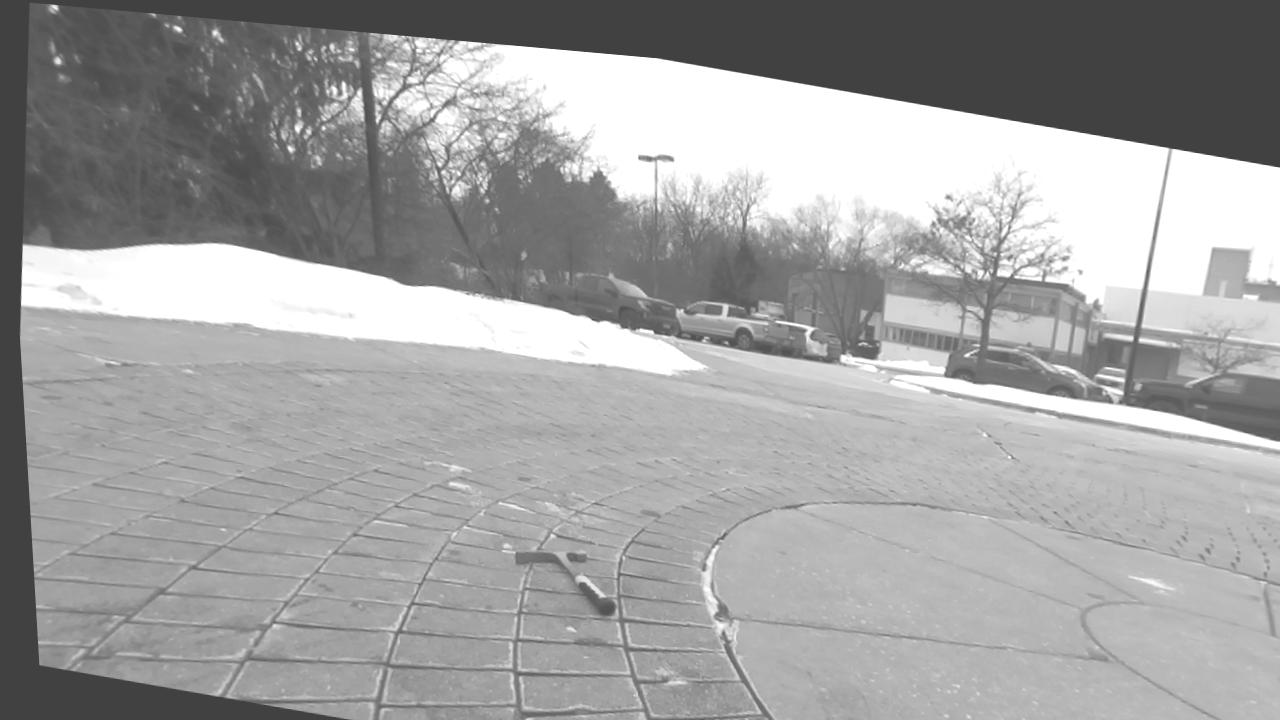pick: (515, 549, 615, 615)
